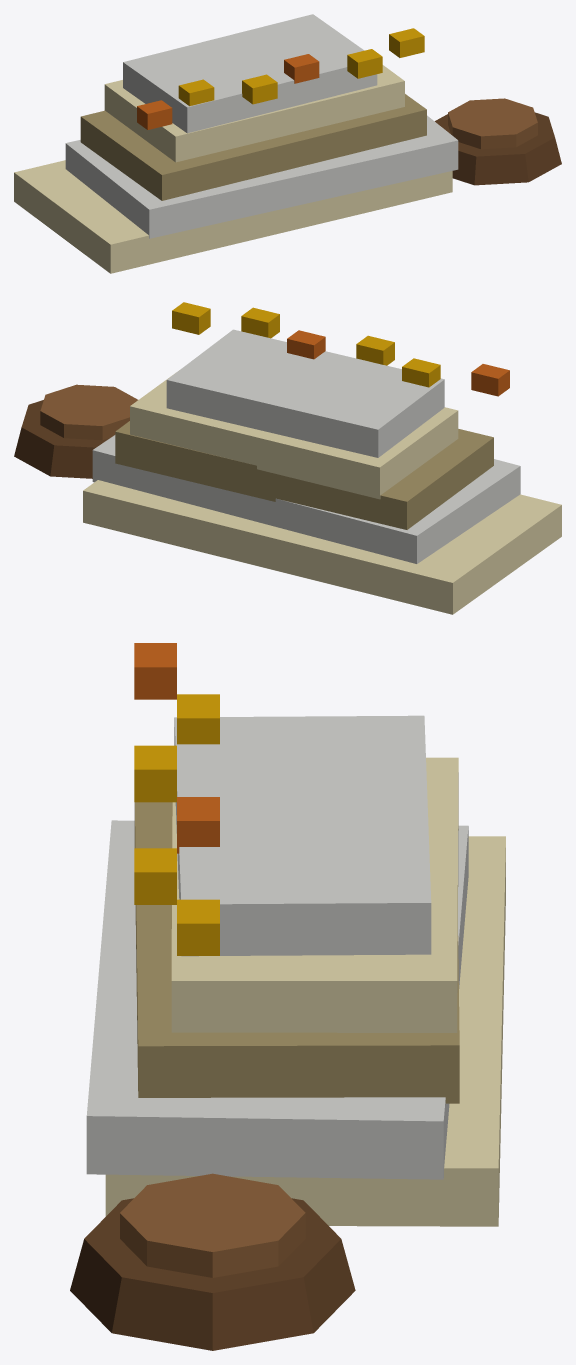
File: prop_net-bundle.61c843bb25de.glb
3 views of the same model, one above another, from view 1: azimuth 30°, elevation 25°; view 2: azimuth 150°, elevation 25°; view 3: azimuth 270°, elevation 25° (orthographic). The views are drawn at different scales.
Visible parts, largest first — view 1: body; view 2: body; view 3: body.
Boxes of the visible parts, <box> form: body: <box>14,14,561,273</box>; body: <box>14,302,561,614</box>; body: <box>70,643,505,1350</box>.
Size of the model in its own units: 1.52 by 0.45 by 0.6106.
